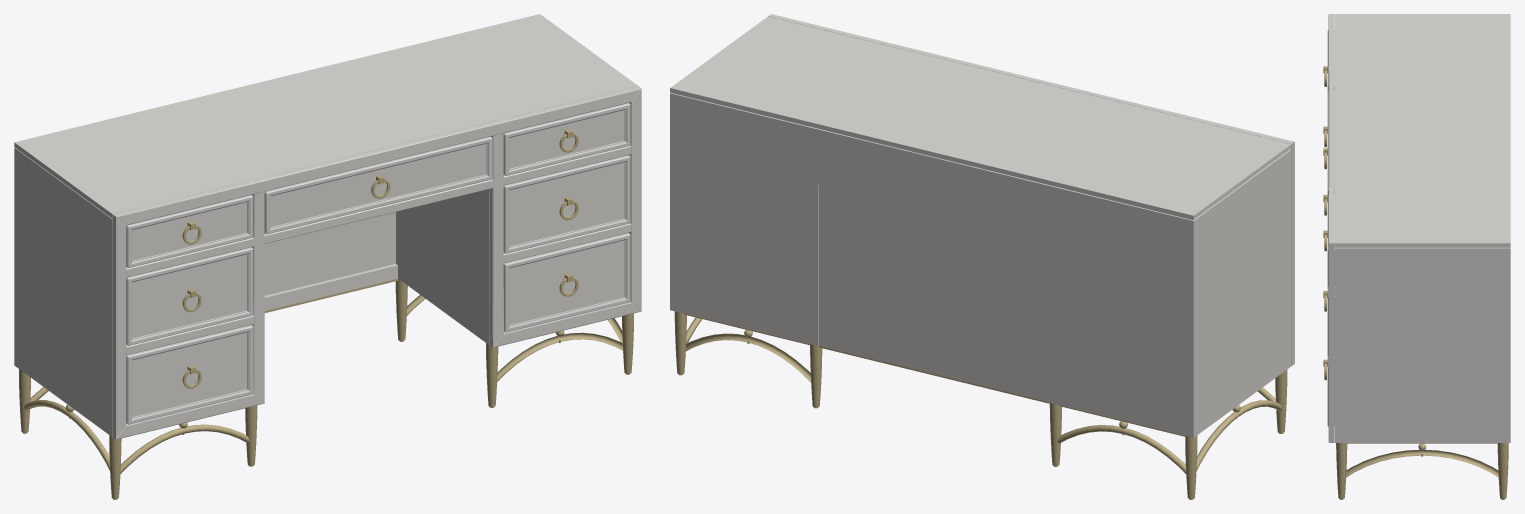
3 renders of one model, left to right at view 1: azimuth 30°, elevation 25°; view 2: azimuth 150°, elevation 25°; view 3: azimuth 270°, elevation 25°, orthographic. The views are drawn at different scales.
Parts seen in each view (by area): view 1: 62d5b81040a4546e5fda73df2e6a9648eb6ceb52 > > root > (×2); view 2: 62d5b81040a4546e5fda73df2e6a9648eb6ceb52 > > root > (×2); view 3: 62d5b81040a4546e5fda73df2e6a9648eb6ceb52 > > root > (×2).
Part boxes in pixels (box(x1,y1,x2,y2)): 62d5b81040a4546e5fda73df2e6a9648eb6ceb52 > > root > (×2): box(14, 14, 641, 499); 62d5b81040a4546e5fda73df2e6a9648eb6ceb52 > > root > (×2): box(670, 14, 1294, 499); 62d5b81040a4546e5fda73df2e6a9648eb6ceb52 > > root > (×2): box(1323, 14, 1510, 499).
Size of the model in its own units: 1.52 by 0.7997 by 0.5255.
